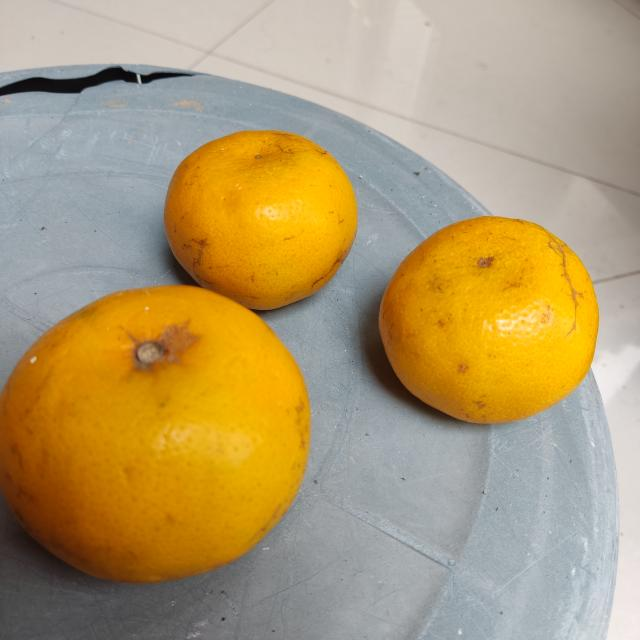orange: (2, 283, 313, 585), (377, 216, 601, 425), (165, 125, 358, 312)
